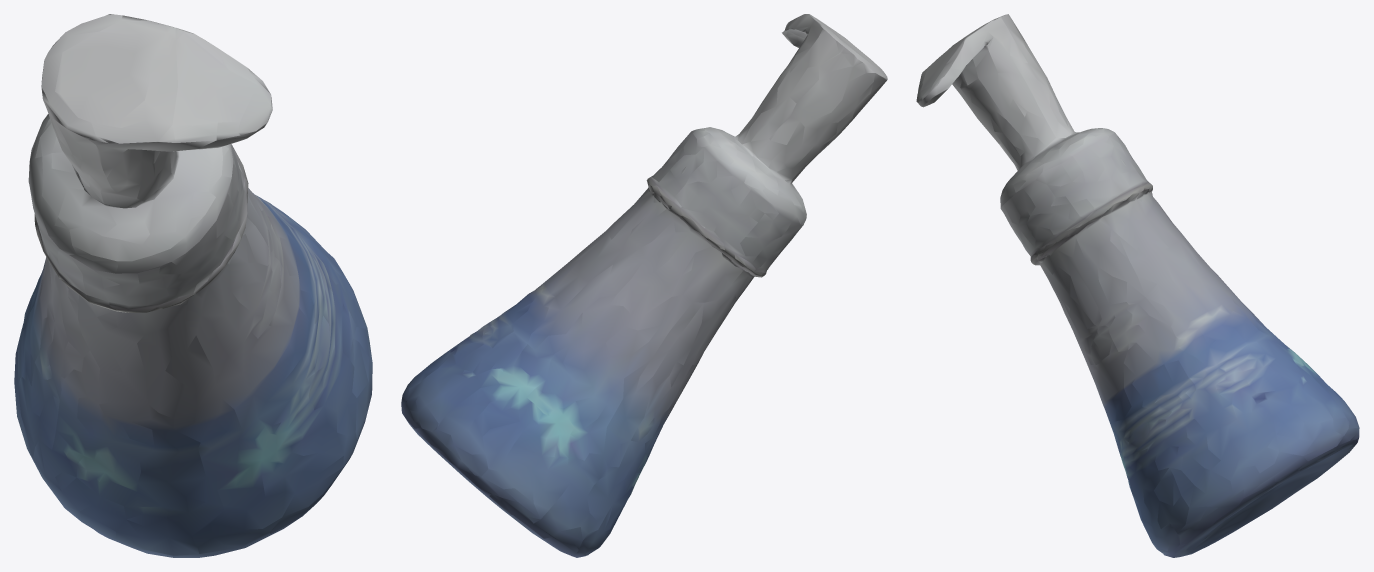
File: 0008_mask_009_soap_dispenser.glb
3 renders of one model, left to right at view 1: azimuth 30°, elevation 25°; view 2: azimuth 150°, elevation 25°; view 3: azimuth 270°, elevation 25°, orthographic. The views are drawn at different scales.
Parts seen in each view (by area): view 1: mask_009_object; view 2: mask_009_object; view 3: mask_009_object.
Boxes of the visible parts, bbox=[...] form: mask_009_object: bbox=[14, 14, 372, 557]; mask_009_object: bbox=[401, 14, 887, 557]; mask_009_object: bbox=[916, 14, 1359, 557].
Size of the model in its own units: 0.1947 by 0.2619 by 0.2292.
